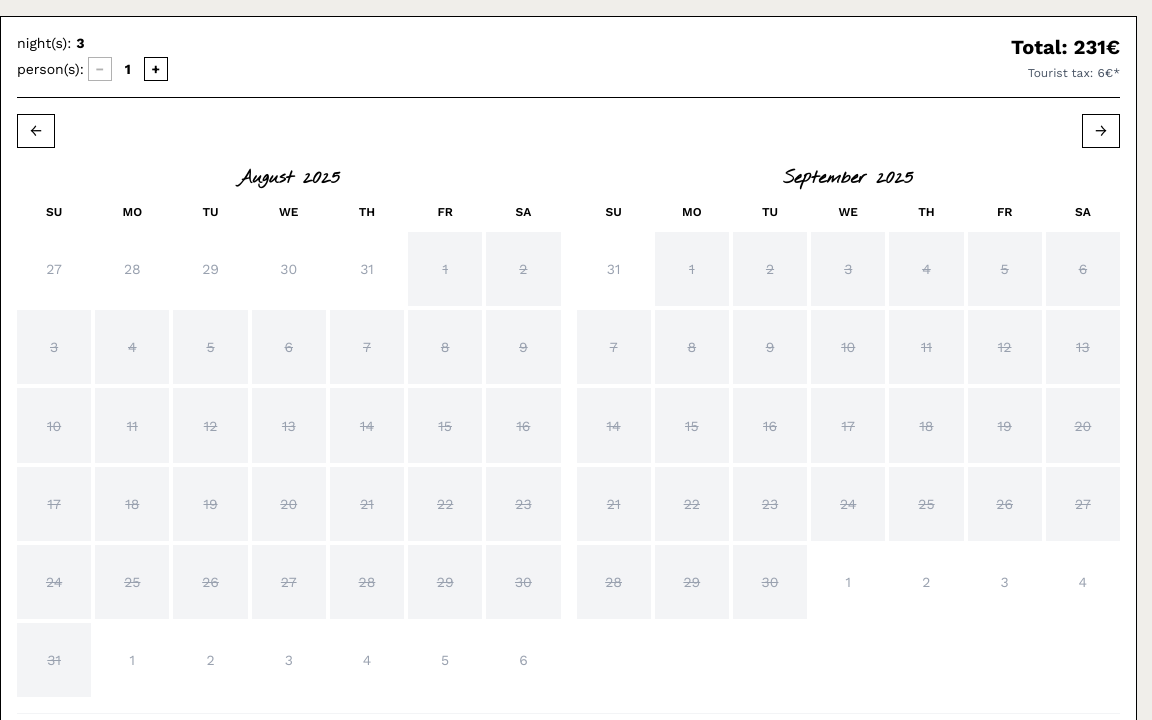
Test case: user can increment person count to 2 and decrement back to 1
Expected: the button named "Decrease number of persons" is disabled, [88,57,112,81]
// Increment to 2 — can't go higher
Click the button named "Increase number of persons" at (156, 69), box [144,57,168,81]
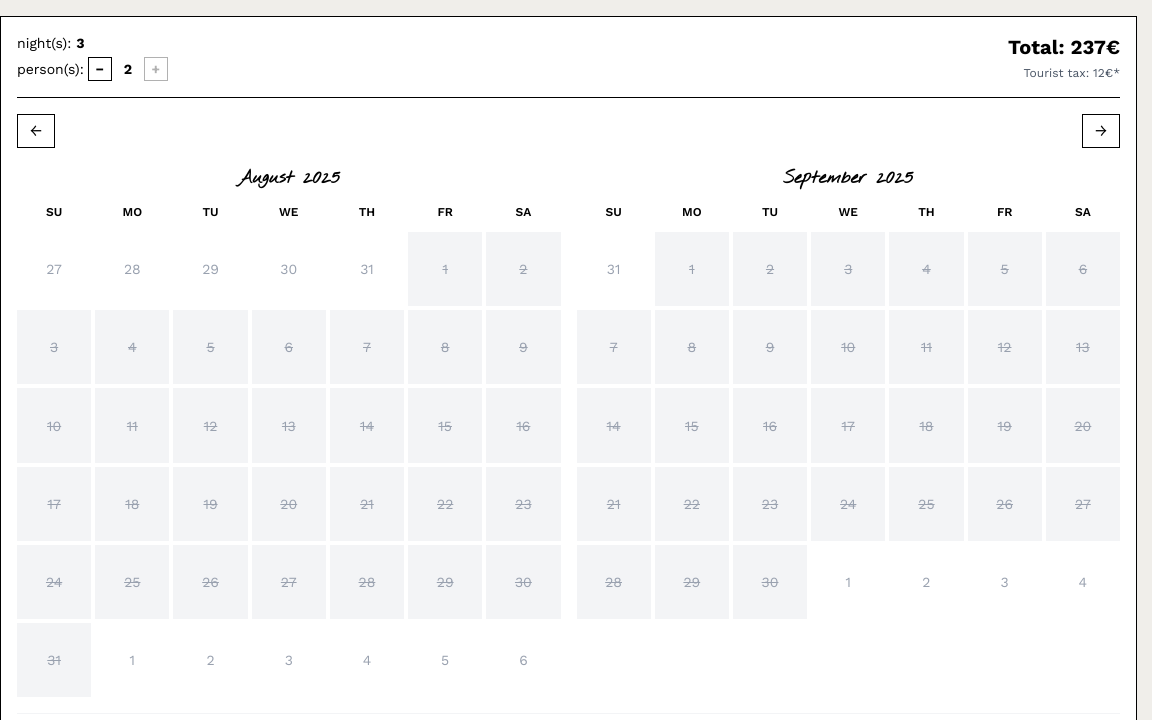
Now the button named "Increase number of persons" is disabled, box [144,57,168,81]
Now the button named "Decrease number of persons" is enabled
// Decrement back to 1
Click the button named "Decrease number of persons" at (100, 69), box [88,57,112,81]
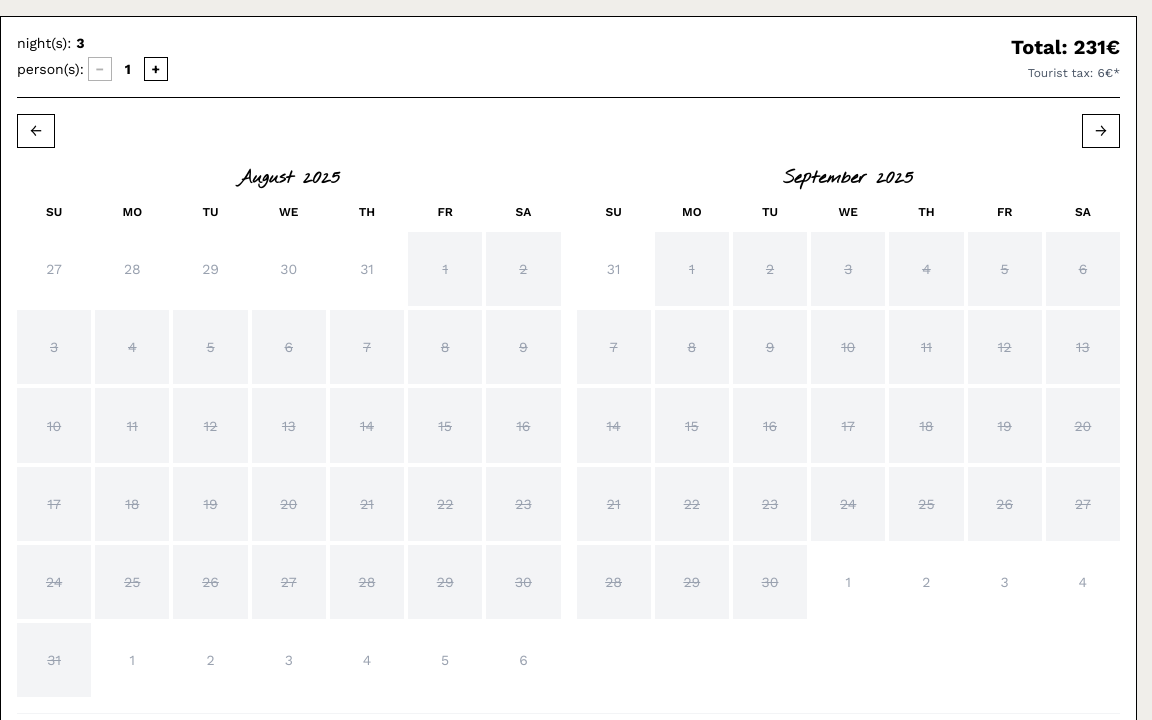
Now the button named "Decrease number of persons" is disabled, box [88,57,112,81]
